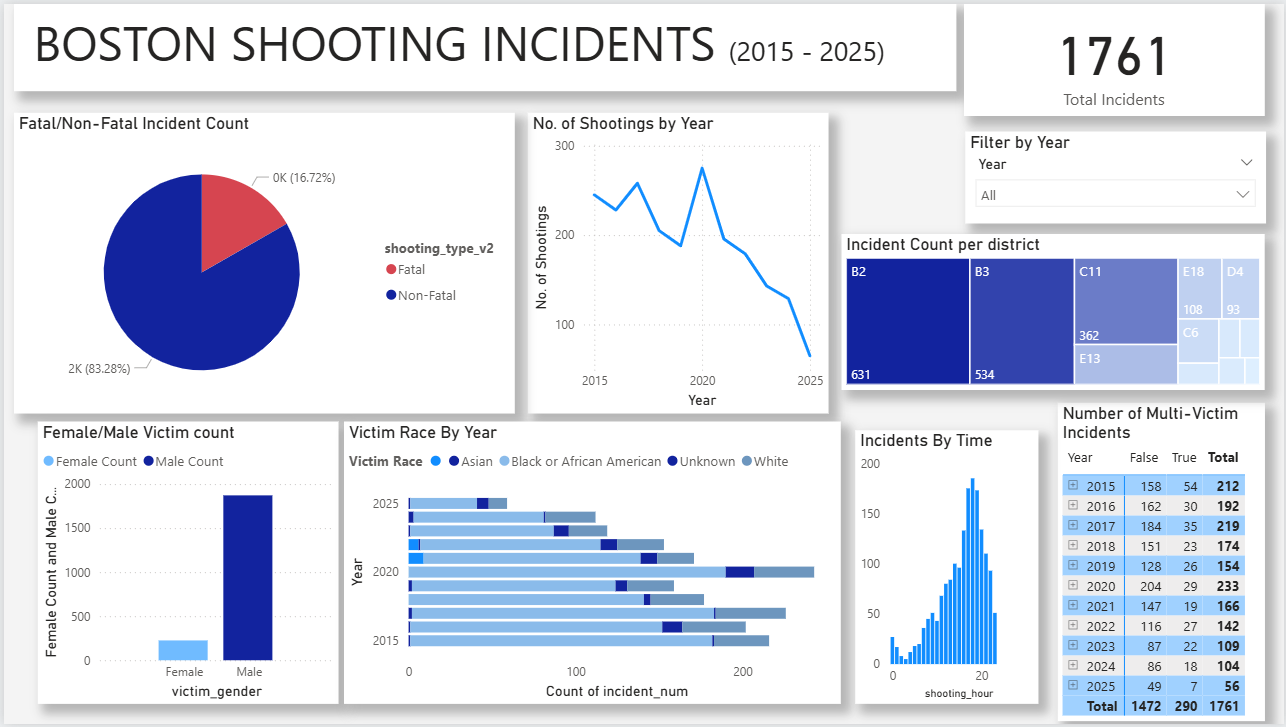

This screenshot's page, from the dashboard's own definition file:
{"tool":"powerbi","page":{"name":"Page 1","canvas":[1280,720],"ordinal":0},"visuals":[{"type":"textbox","box":[9.7,0,942.2,86.9],"z":0},{"type":"lineChart","fields":{"Category":["Boston_Shootings_dataset.shooting_date.Variation.Date Hierarchy.Year","Boston_Shootings_dataset.shooting_date.Variation.Date Hierarchy.Quarter","Boston_Shootings_dataset.shooting_date.Variation.Date Hierarchy.Month"],"Y":["CountNonNull(Boston_Shootings_dataset.incident_num)"]},"box":[523.6,108.6,300.4,300.4],"z":1000},{"type":"pieChart","title":"Fatal/Non-Fatal Incident Count","fields":{"Category":["Boston_Shootings_dataset.shooting_type_v2"],"Y":["Boston_Shootings_dataset.Fatal Incident Count","Boston_Shootings_dataset.Non-Fatal Incident Count"]},"box":[9.6,108.4,500.9,300.5],"z":2000},{"type":"card","fields":{"Values":["Boston_Shootings_dataset.Total Incidents"]},"box":[960.3,0,300.4,112.2],"z":3000},{"type":"columnChart","title":"Female/Male Victim count","fields":{"Category":["Boston_Shootings_dataset.victim_gender"],"Y":["Boston_Shootings_dataset.Female Count","Boston_Shootings_dataset.Male Count"]},"box":[34.2,417,300.8,282.5],"z":4000},{"type":"pivotTable","title":"Number of Multi-Victim Incidents","fields":{"Columns":["Boston_Shootings_dataset.multi_victim"],"Values":["Count(Boston_Shootings_dataset.incident_num)"],"Rows":["Boston_Shootings_dataset.shooting_date.Variation.Date Hierarchy.Year","Boston_Shootings_dataset.shooting_date.Variation.Date Hierarchy.Month"]},"box":[1053.2,399.3,207.5,318.5],"z":5000},{"type":"barChart","title":"Victim Race By Year","fields":{"Category":["Boston_Shootings_dataset.shooting_date.Variation.Date Hierarchy.Year"],"Y":["Count(Boston_Shootings_dataset.incident_num)"],"Series":["Boston_Shootings_dataset.victim_race"]},"box":[340.2,417.4,497.1,282.3],"z":6000},{"type":"slicer","title":"Filter by Year","fields":{"Values":["Boston_Shootings_dataset.shooting_date.Variation.Date Hierarchy.Year"]},"box":[961.5,127.9,300.4,91.7],"z":7000},{"type":"treemap","title":"Incident Count per district","fields":{"Group":["Boston_Shootings_dataset.district"],"Values":["CountNonNull(Boston_Shootings_dataset.incident_num)"]},"box":[837.3,230.4,423.5,155.6],"z":8000},{"type":"clusteredColumnChart","title":"Incidents By Time","fields":{"Category":["Boston_Shootings_dataset.shooting_hour"],"Y":["Count(Boston_Shootings_dataset.incident_num)"]},"box":[851.7,425.9,183.4,273.9],"z":8001}]}

Visuals, with their boxes in screenshot pixels (x1, y1, x2, y2), scaled from the page's 1280x720 canvas onto the 1286x727 screenshot:
textbox: 10/0/956/88
lineChart - Boston_Shootings_dataset.shooting_date.Variation.Date Hierarchy.Year x Boston_Shootings_dataset.shooting_date.Variation.Date Hierarchy.Quarter: 526/110/828/413
"Fatal/Non-Fatal Incident Count" pieChart: 10/109/513/413
card - Boston_Shootings_dataset.Total Incidents: 965/0/1267/113
"Female/Male Victim count" columnChart: 34/421/337/706
"Number of Multi-Victim Incidents" pivotTable: 1058/403/1267/725
"Victim Race By Year" barChart: 342/421/841/707
"Filter by Year" slicer: 966/129/1268/222
"Incident Count per district" treemap: 841/233/1267/390
"Incidents By Time" clusteredColumnChart: 856/430/1040/707
